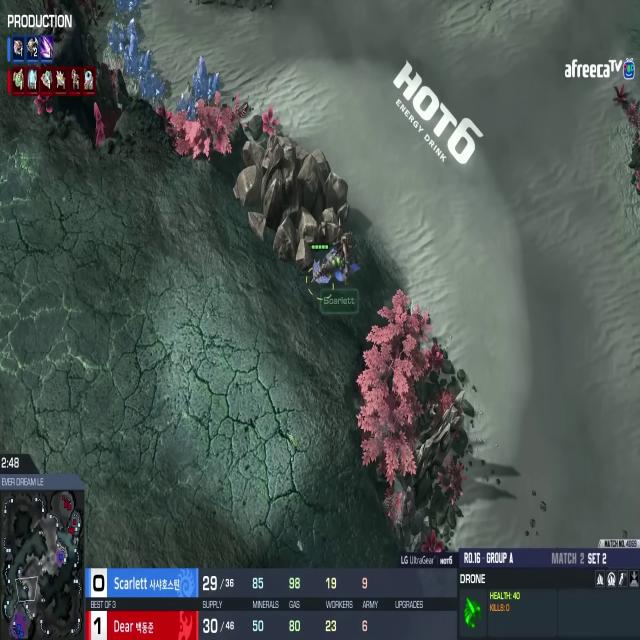drone: (307, 256, 333, 291)
queen: (314, 214, 366, 290)
